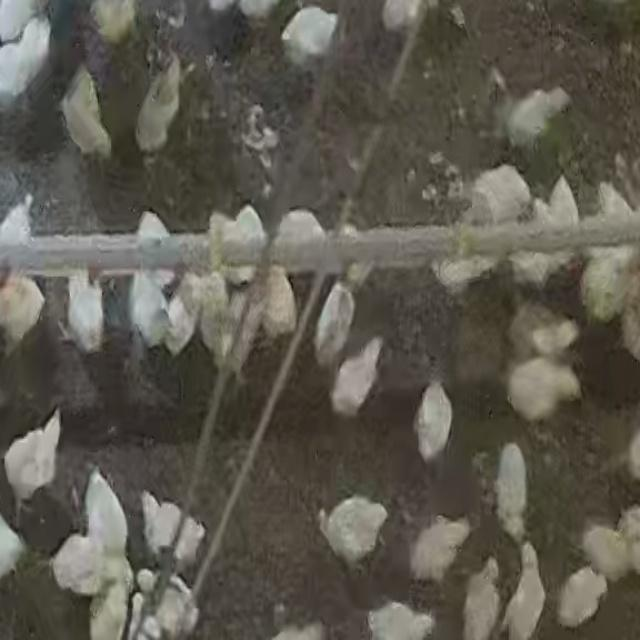chicken: (56, 60, 116, 166), (3, 408, 64, 511), (140, 492, 206, 576), (505, 355, 583, 423), (137, 51, 184, 161), (321, 494, 390, 567), (329, 337, 387, 422), (0, 18, 53, 108), (504, 543, 552, 639), (488, 442, 534, 540), (196, 270, 242, 367), (503, 85, 574, 147), (467, 163, 532, 226), (408, 515, 470, 580), (0, 271, 47, 352), (313, 283, 357, 368), (412, 380, 457, 463), (580, 249, 631, 322), (280, 6, 339, 68), (577, 519, 632, 581), (65, 273, 106, 354), (555, 564, 606, 627), (460, 558, 500, 638), (161, 281, 199, 358), (368, 600, 431, 640)
